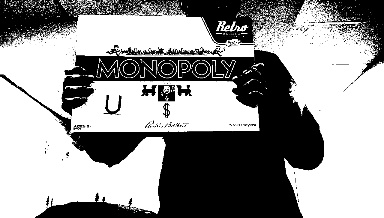U: (103, 94, 123, 114)
